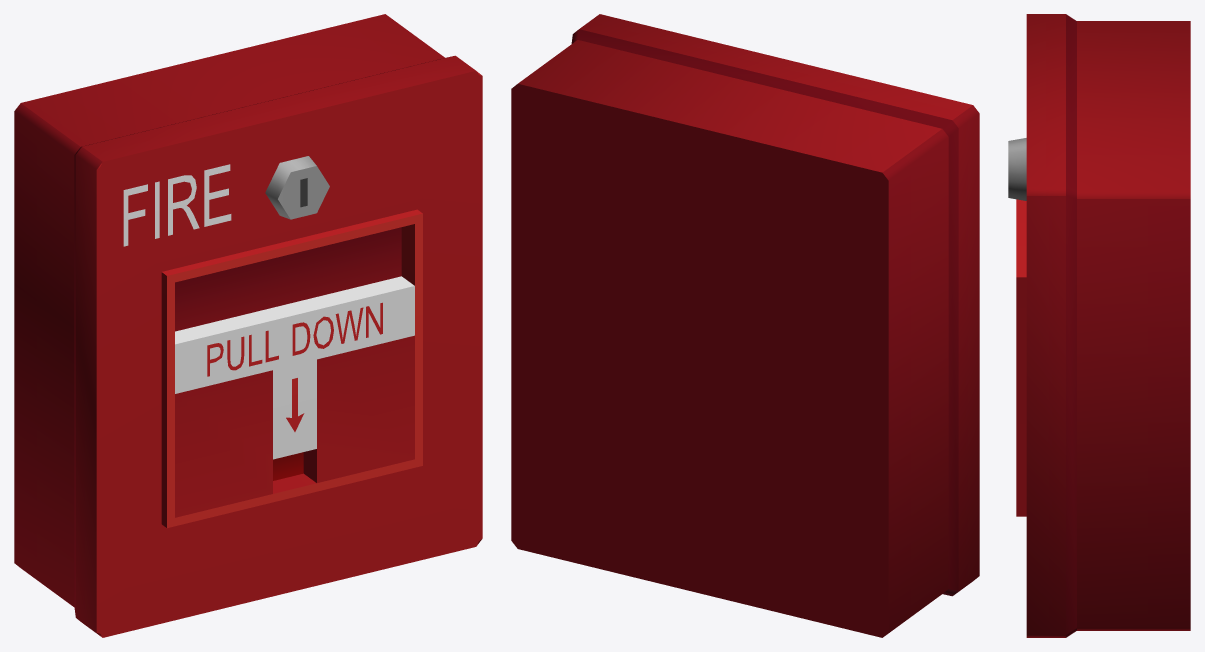
The model's file is CR_Hydrantbox_001.FBX.
3 views of the same model, side by side, from view 1: azimuth 30°, elevation 25°; view 2: azimuth 150°, elevation 25°; view 3: azimuth 270°, elevation 25° (orthographic). The views are drawn at different scales.
Parts seen in each view (by area): view 1: CR_Hydrantbox_001; view 2: CR_Hydrantbox_001; view 3: CR_Hydrantbox_001.
Part boxes in pixels (x1,y1,x2,y2): CR_Hydrantbox_001: [14, 14, 482, 637]; CR_Hydrantbox_001: [511, 14, 979, 637]; CR_Hydrantbox_001: [1008, 14, 1190, 637].
Bounding box in the file's own units: 12.14 × 14.31 × 5.23.
